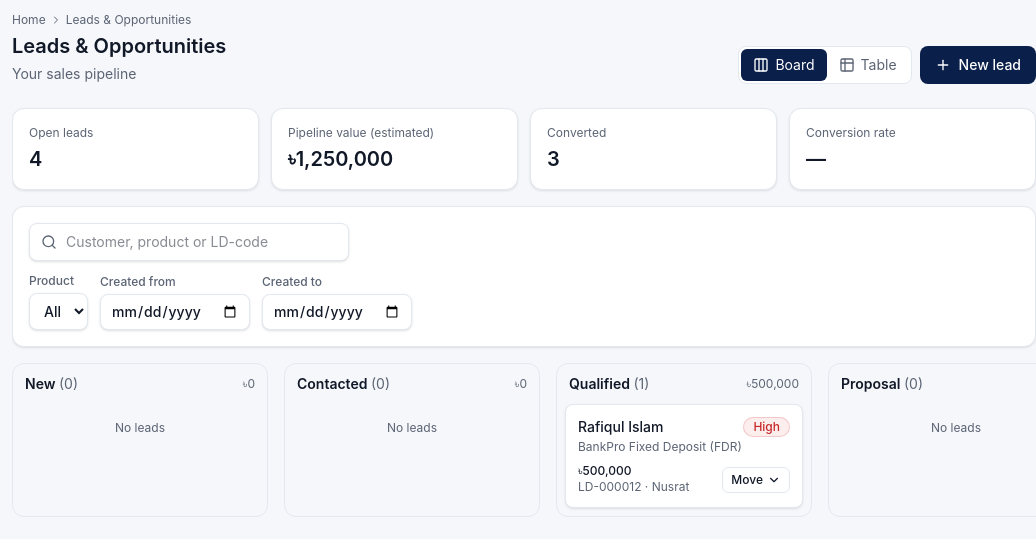
Test: LeadsPage › switches to the paginated table view
Click the button "Table" at (868, 65), box x1=827 y1=49 x2=909 y2=81
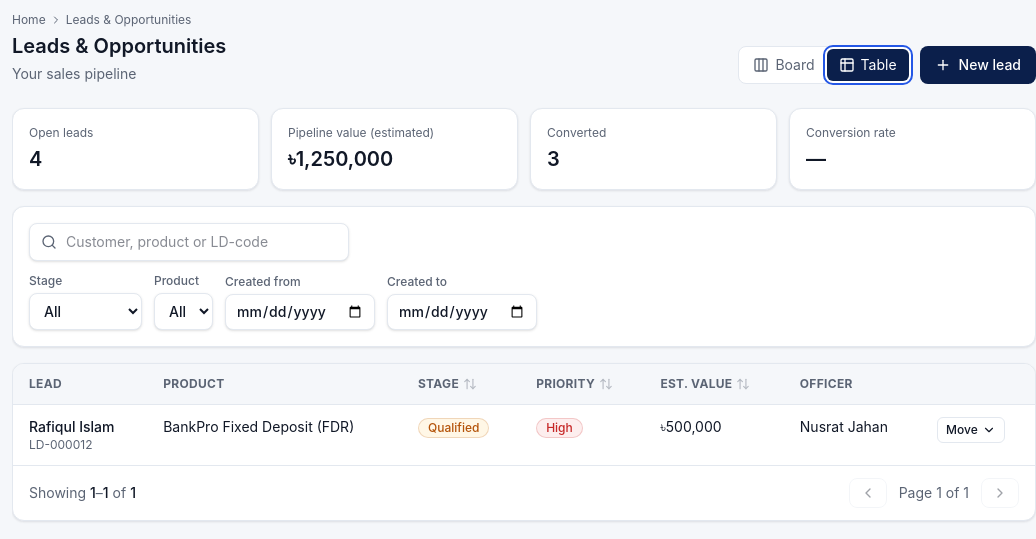
Check: the text "—" is shown, box x1=806 y1=147 x2=826 y2=171
Check: the table is shown, box x1=13 y1=364 x2=1035 y2=465
